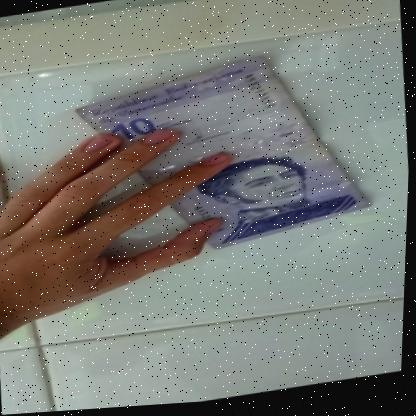ten-front-vef: (69, 44, 378, 272)
